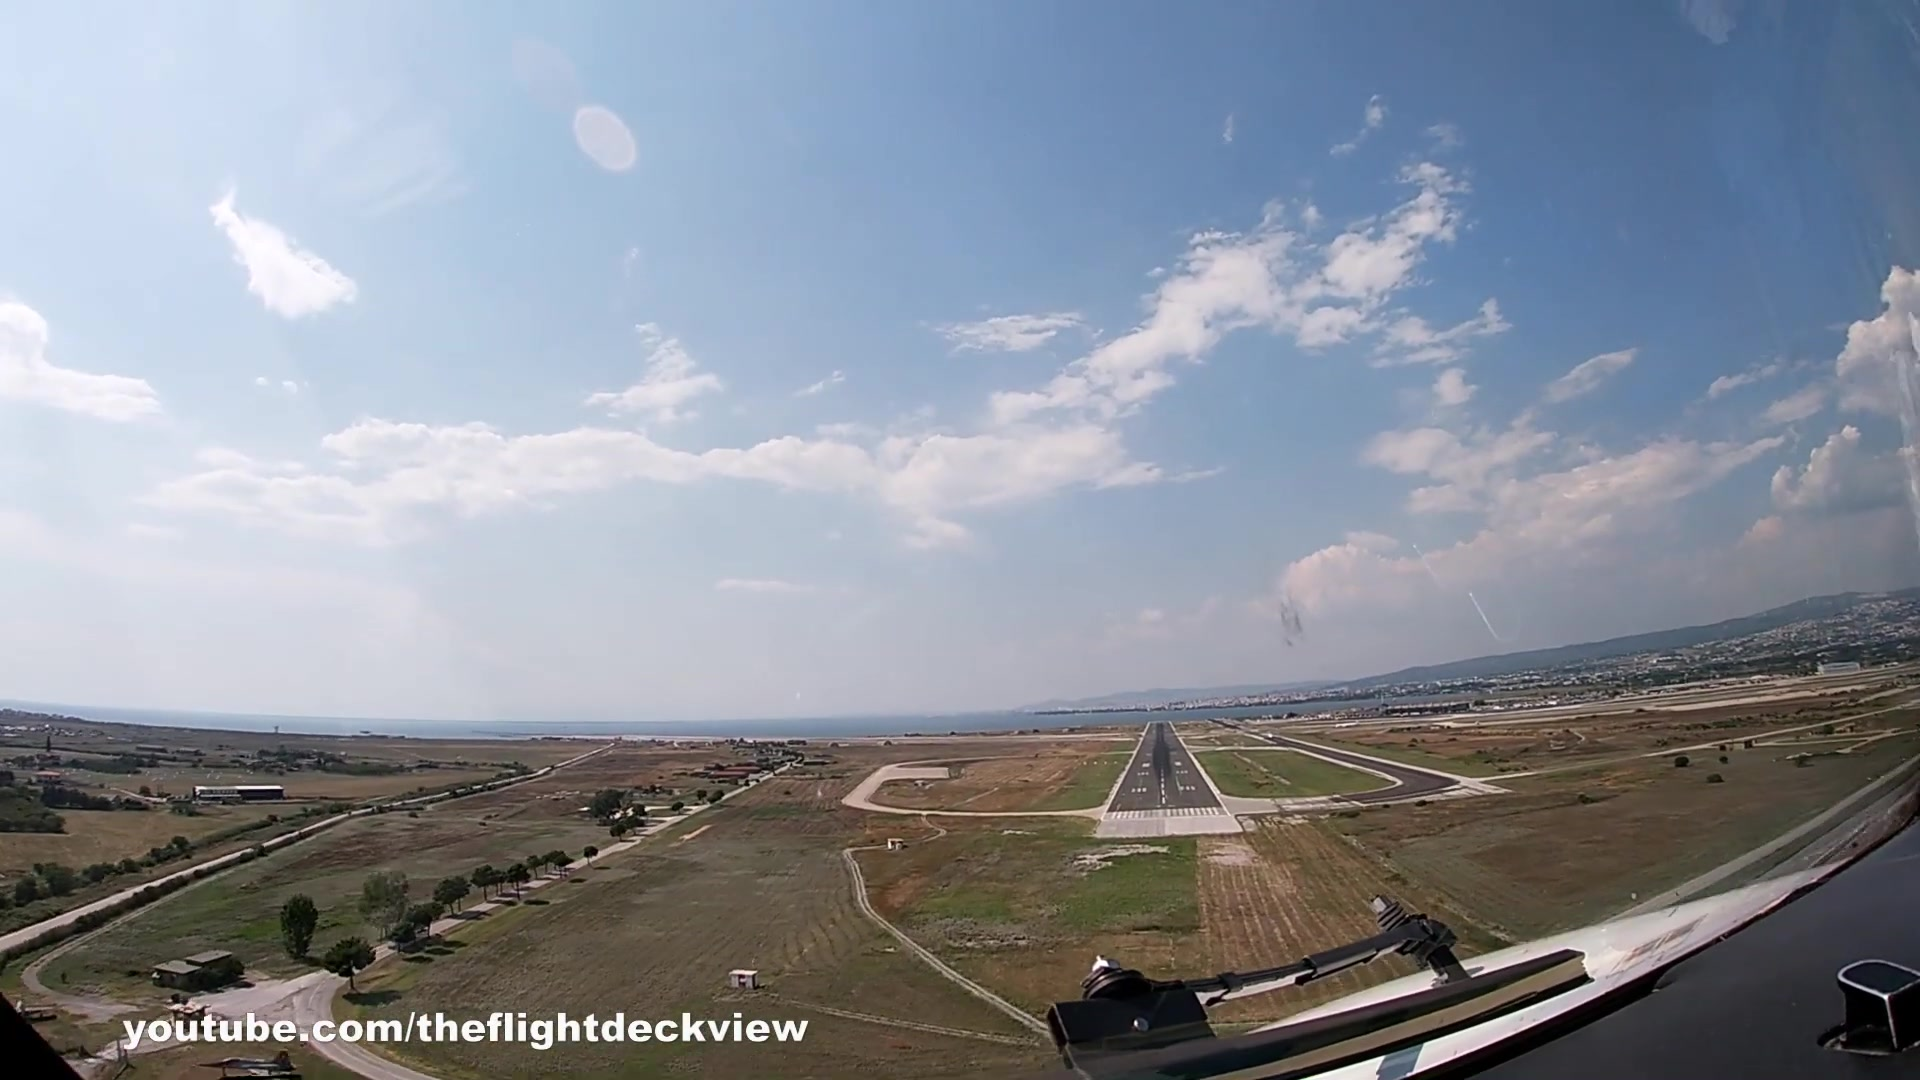entrance: (1112, 806, 1218, 820)
runway: (1091, 719, 1242, 840)
